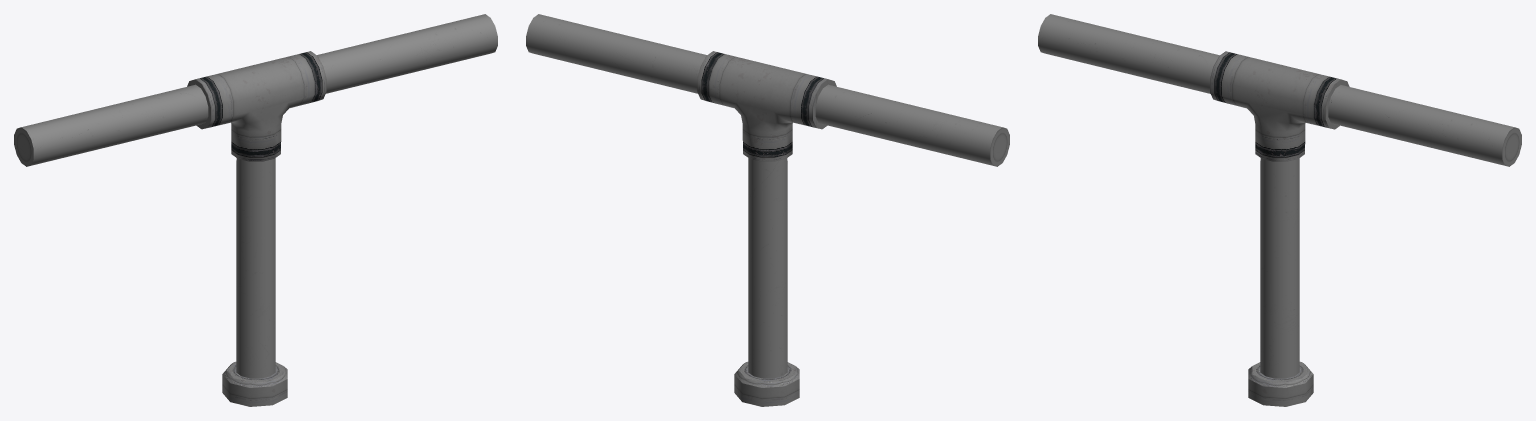
Rendered from GuardRail_01_Joint_L1.fbx.
3 views of the same model, side by side, from view 1: azimuth 30°, elevation 25°; view 2: azimuth 150°, elevation 25°; view 3: azimuth 330°, elevation 25° (orthographic).
Visible parts, largest first — view 1: GuardRail_01_Joint_L1; view 2: GuardRail_01_Joint_L1; view 3: GuardRail_01_Joint_L1.
Part boxes in pixels (box(x1,y1,x2,y2)): GuardRail_01_Joint_L1: box(14, 14, 497, 406); GuardRail_01_Joint_L1: box(526, 14, 1009, 406); GuardRail_01_Joint_L1: box(1038, 14, 1521, 406).
Size of the model in its own units: 150 by 100 by 18.22.
